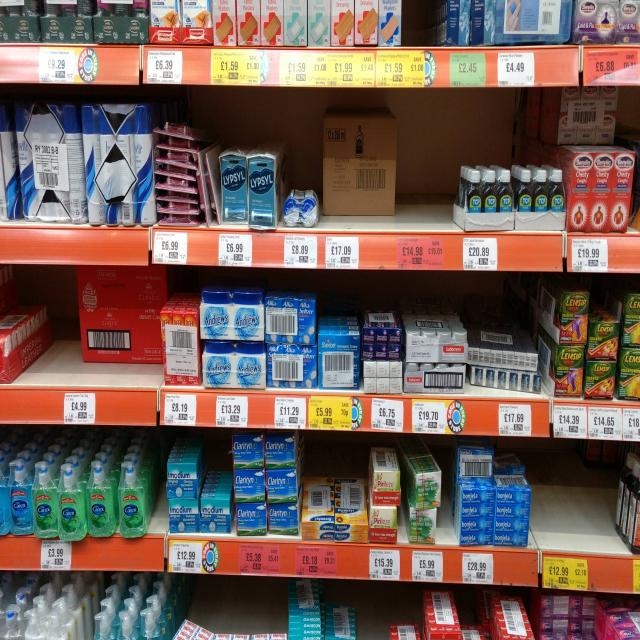void: (429, 98, 455, 268), (589, 438, 616, 595), (562, 441, 588, 604), (535, 435, 560, 591), (404, 96, 425, 270), (401, 0, 445, 82), (147, 455, 167, 570)
